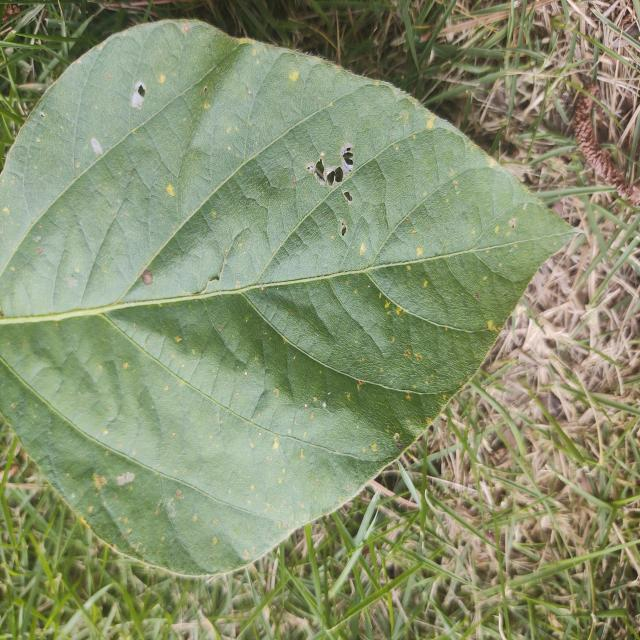Soybean: (0, 19, 571, 586)
downey_mildew: (292, 84, 450, 396), (224, 75, 372, 291), (80, 450, 262, 571), (60, 143, 187, 297), (119, 35, 233, 194), (1, 323, 137, 440), (239, 275, 357, 407), (181, 438, 312, 546), (174, 159, 279, 291), (199, 196, 290, 343), (361, 111, 446, 261), (325, 263, 419, 378), (336, 337, 434, 447), (199, 295, 291, 405), (242, 51, 331, 161), (416, 246, 501, 337), (410, 163, 486, 264), (358, 247, 447, 330), (315, 443, 398, 505)
